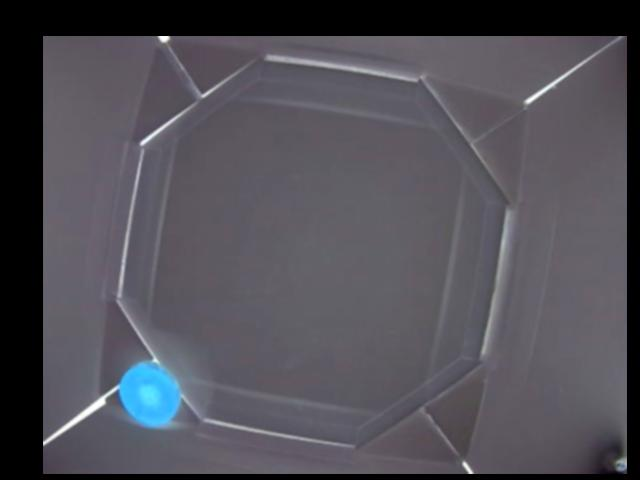Carrot: (117, 361, 180, 426)
